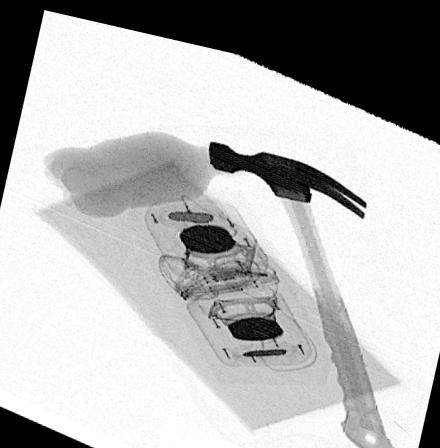Hammer: (205, 129, 397, 441)
